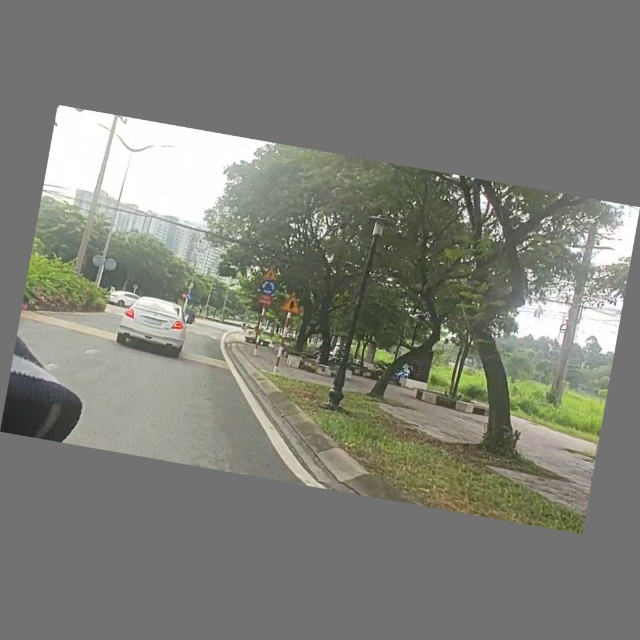P.102: (181, 292, 187, 299)
R.302a: (186, 293, 194, 302)
R.303: (259, 280, 278, 296)
W.207: (281, 295, 303, 316)
W.224: (260, 267, 280, 283)
